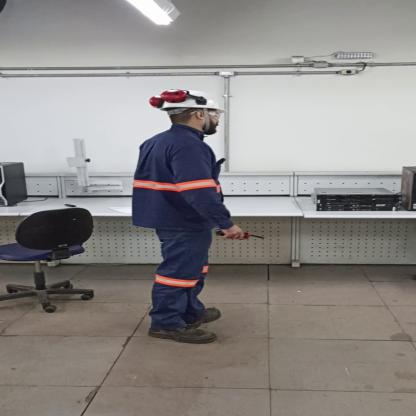Capacete: (153, 84, 228, 110)
